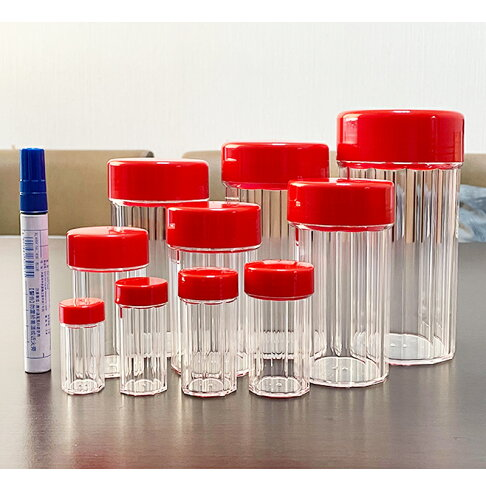medicinejar: (333, 104, 463, 369), (223, 139, 334, 367), (285, 179, 402, 388), (109, 151, 212, 367), (162, 196, 266, 382), (62, 225, 156, 381), (243, 257, 315, 395), (112, 274, 175, 400), (179, 263, 239, 394), (58, 296, 109, 397)
